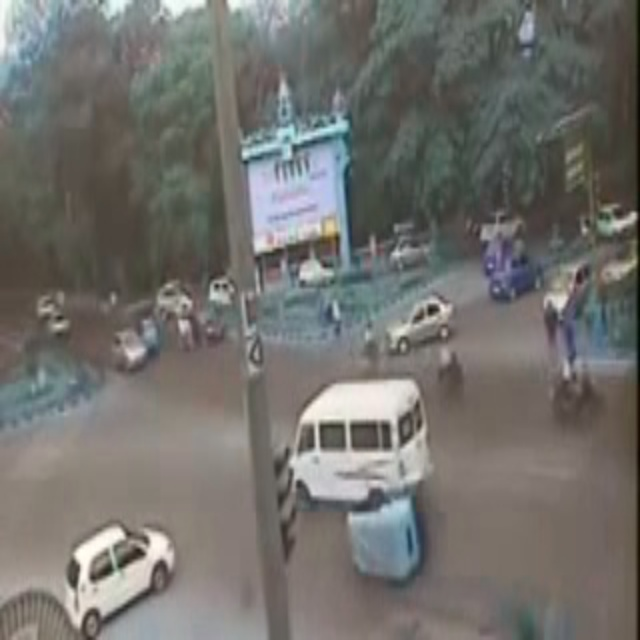acc: (321, 468, 438, 596)
